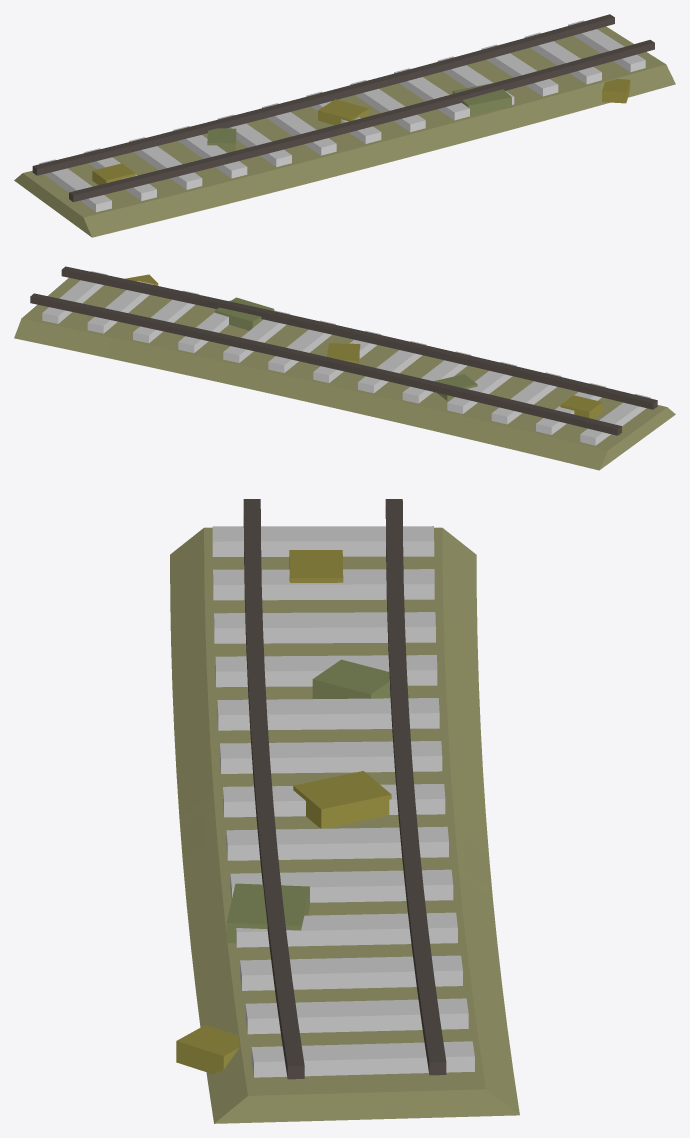
File: SM_Via_CurvaR240_v2_Maleza_LOD1.fbx
The picture shows the model from 3 angles, top to bottom: view 1: azimuth 30°, elevation 25°; view 2: azimuth 150°, elevation 25°; view 3: azimuth 270°, elevation 25°; orthographic projection. The views are drawn at different scales.
Parts seen in each view (by area): view 1: SM_via_trazado_v22_LOD1; view 2: SM_via_trazado_v22_LOD1; view 3: SM_via_trazado_v22_LOD1.
Part boxes in pixels (x1,y1,x2,y2): SM_via_trazado_v22_LOD1: (14,14,675,237); SM_via_trazado_v22_LOD1: (14,266,675,470); SM_via_trazado_v22_LOD1: (170,499,519,1123).
Bounding box in the file's own units: 15.81 × 0.72 × 4.11.
